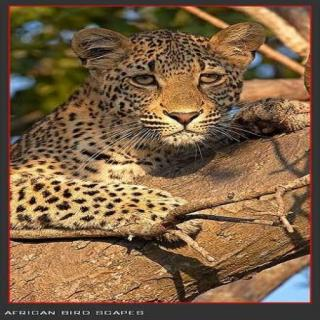Leopard: (47, 27, 320, 233)
